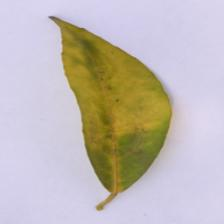greening: (48, 10, 180, 139)
